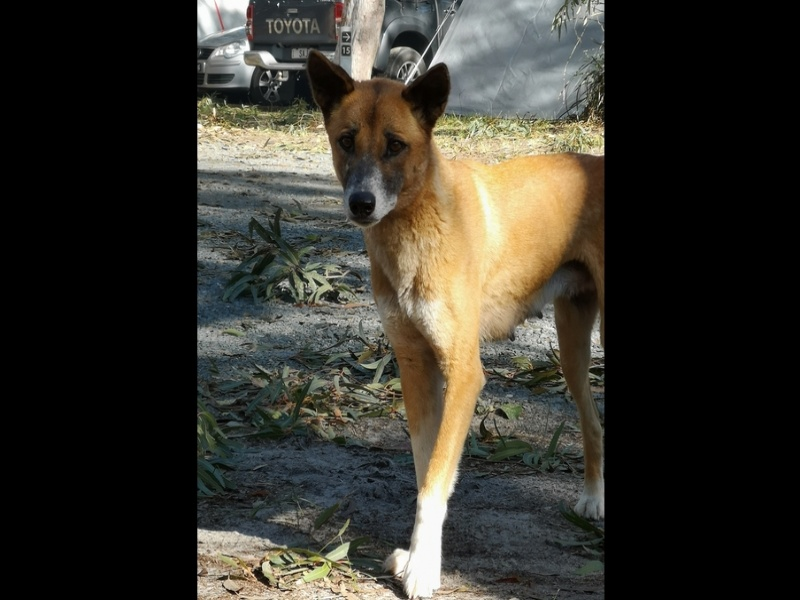dog: (287, 37, 601, 597)
